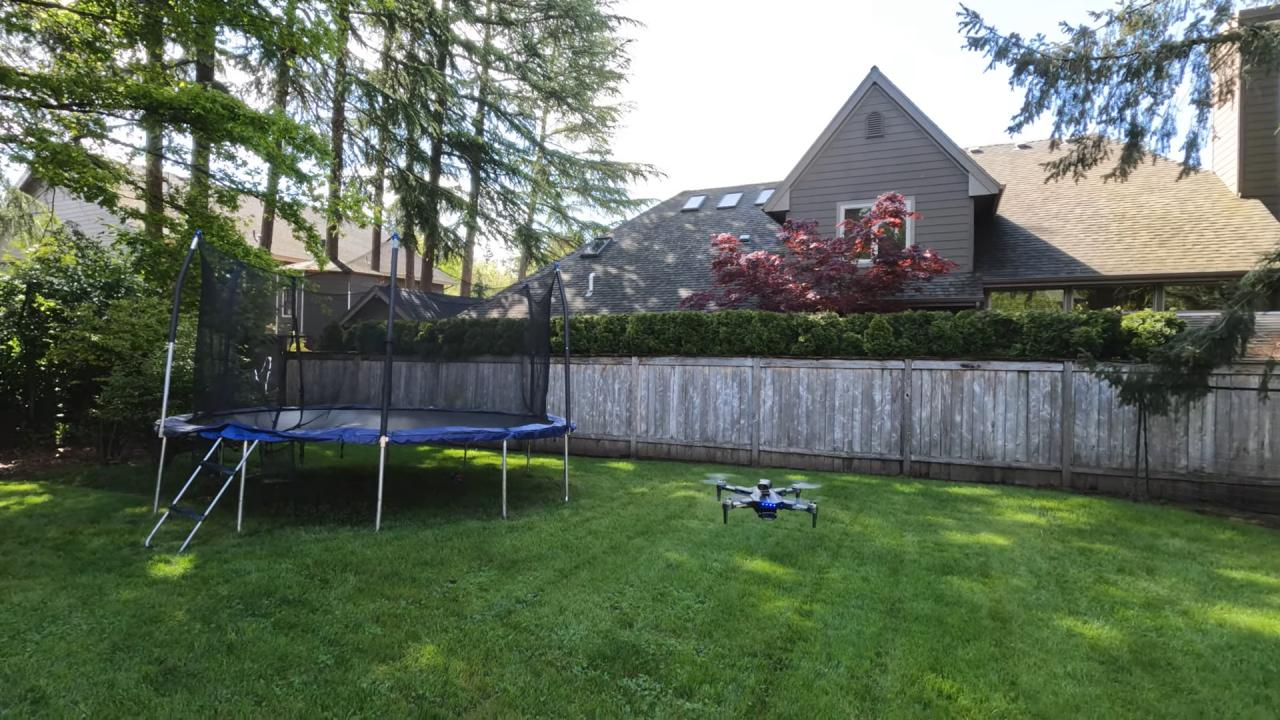Drone: (692, 470, 837, 541)
